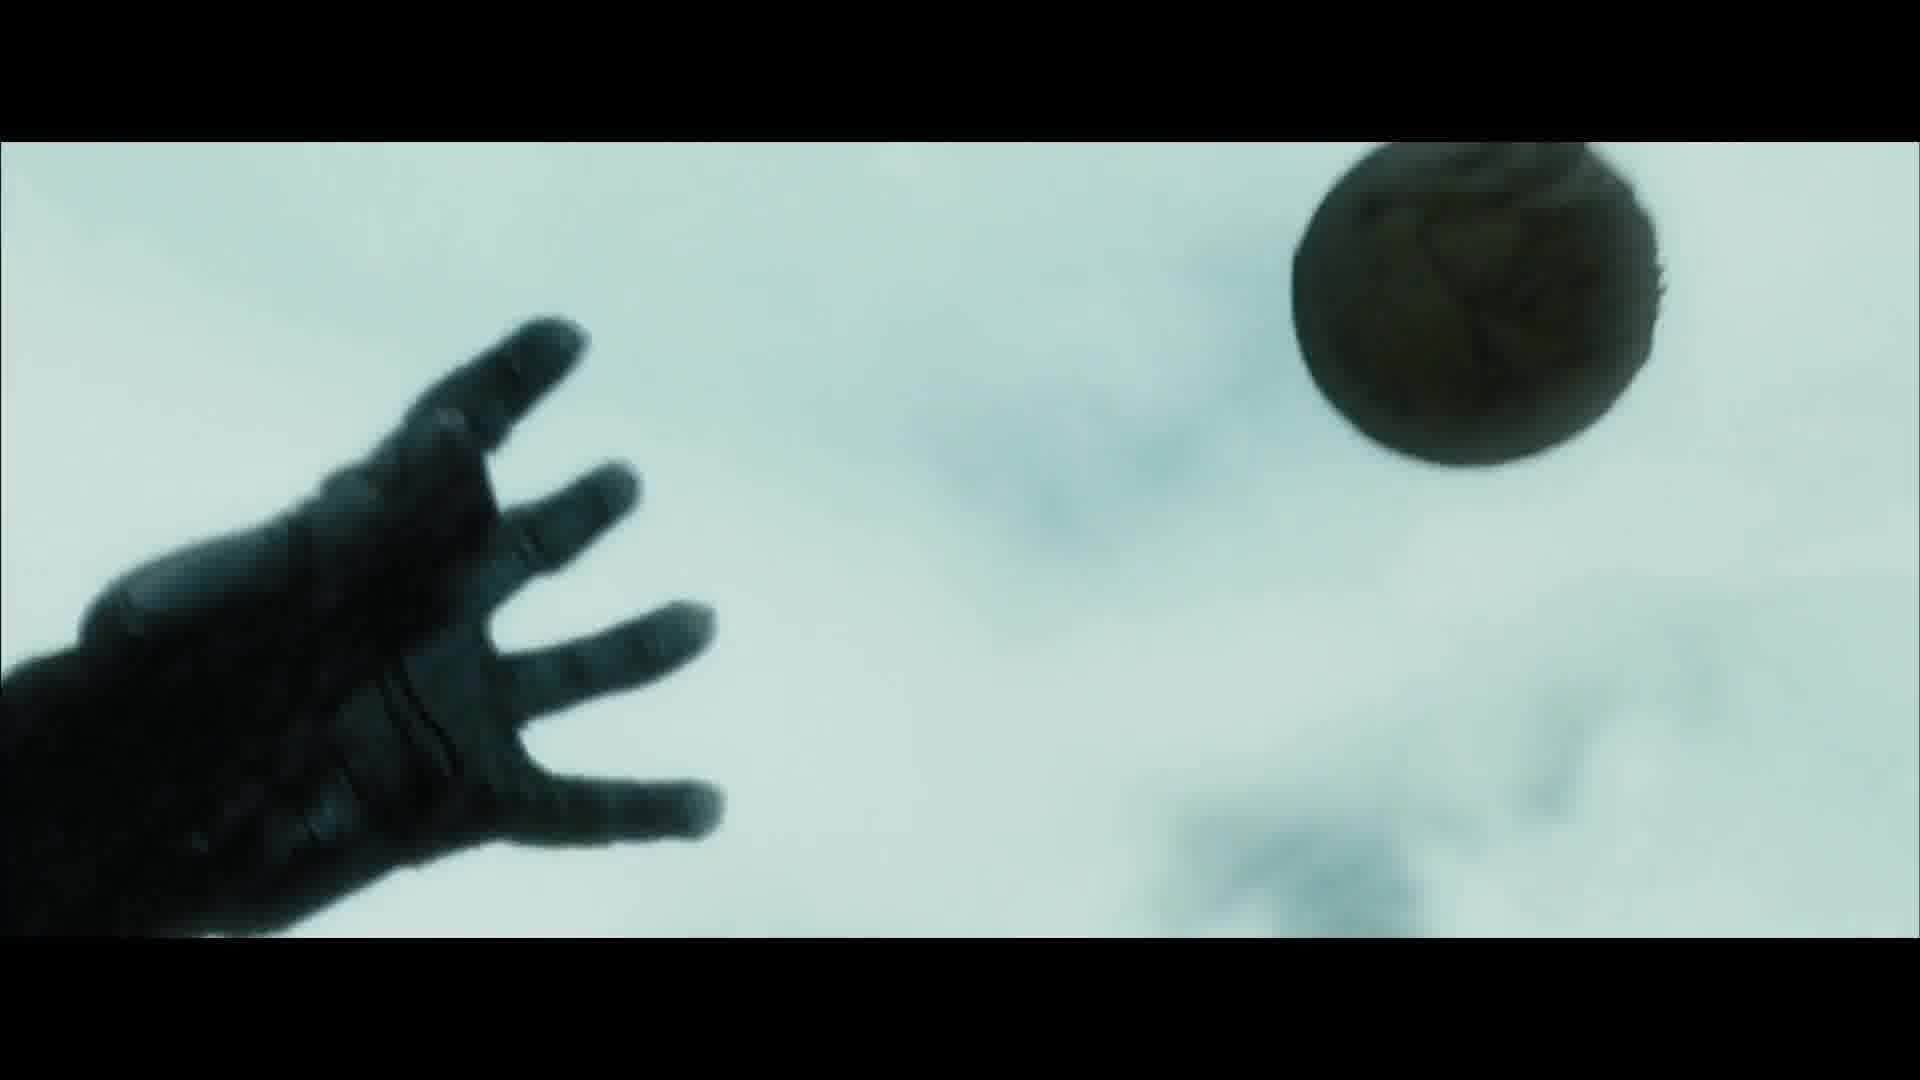snitch: (1291, 142, 1664, 471)
